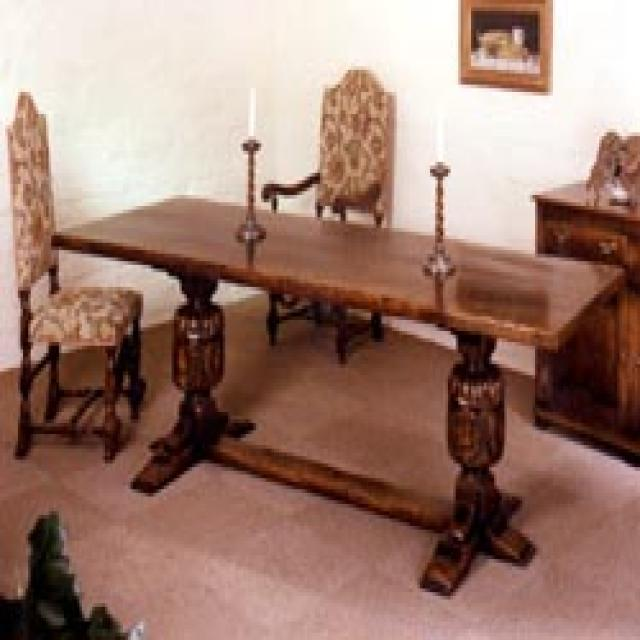table: (52, 194, 622, 596)
